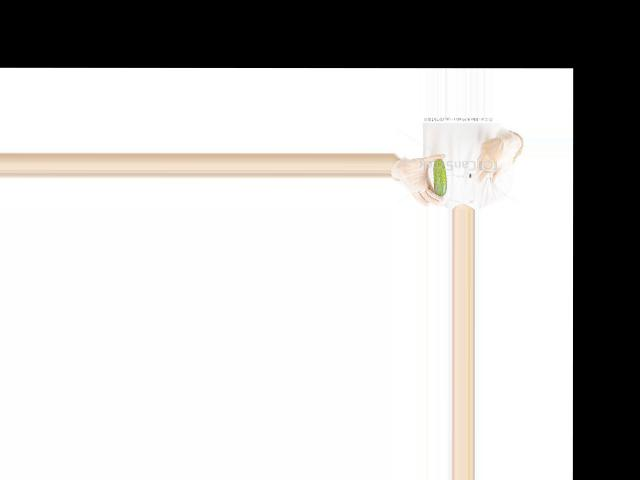cucumber: (432, 157, 446, 196)
